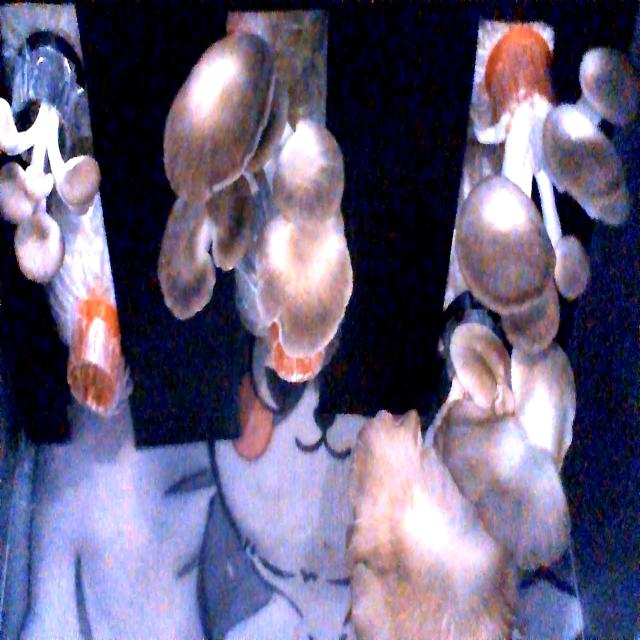big: (324, 304, 585, 638), (159, 34, 359, 356), (450, 43, 632, 338)
nfound: (65, 329, 125, 434), (265, 309, 332, 390)
small: (0, 99, 114, 302)
